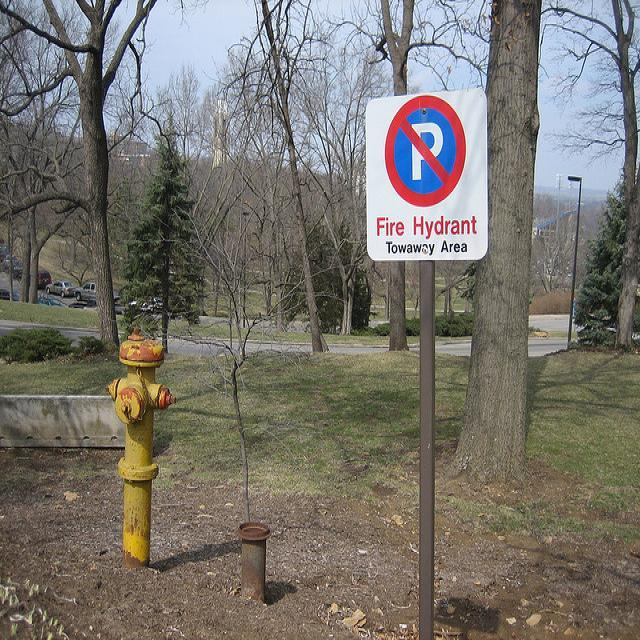fire_hydrant: (105, 326, 178, 570)
